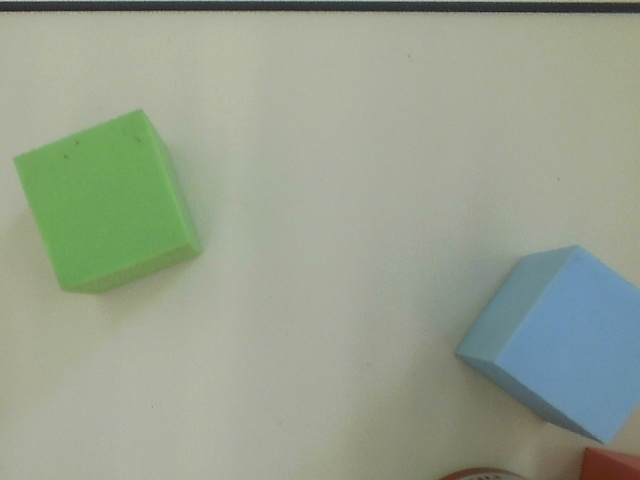bluecube: (451, 245, 640, 447)
cola: (436, 463, 543, 480)
greencube: (7, 108, 219, 296)
redcube: (572, 445, 640, 480)
